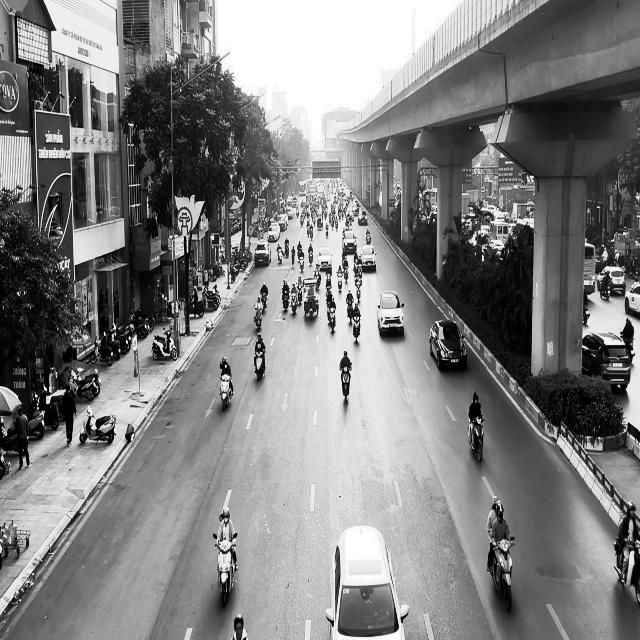bus: (584, 242, 596, 293)
car: (325, 524, 409, 640), (581, 331, 631, 391), (429, 319, 467, 371), (376, 290, 404, 336), (624, 281, 640, 316)
motorbike: (488, 536, 514, 612), (612, 535, 640, 604), (213, 532, 237, 608), (79, 404, 116, 445), (152, 327, 178, 360), (467, 415, 485, 462), (219, 374, 234, 410), (253, 348, 266, 381), (340, 364, 351, 402), (326, 303, 336, 332), (351, 314, 361, 341), (254, 304, 263, 329)
